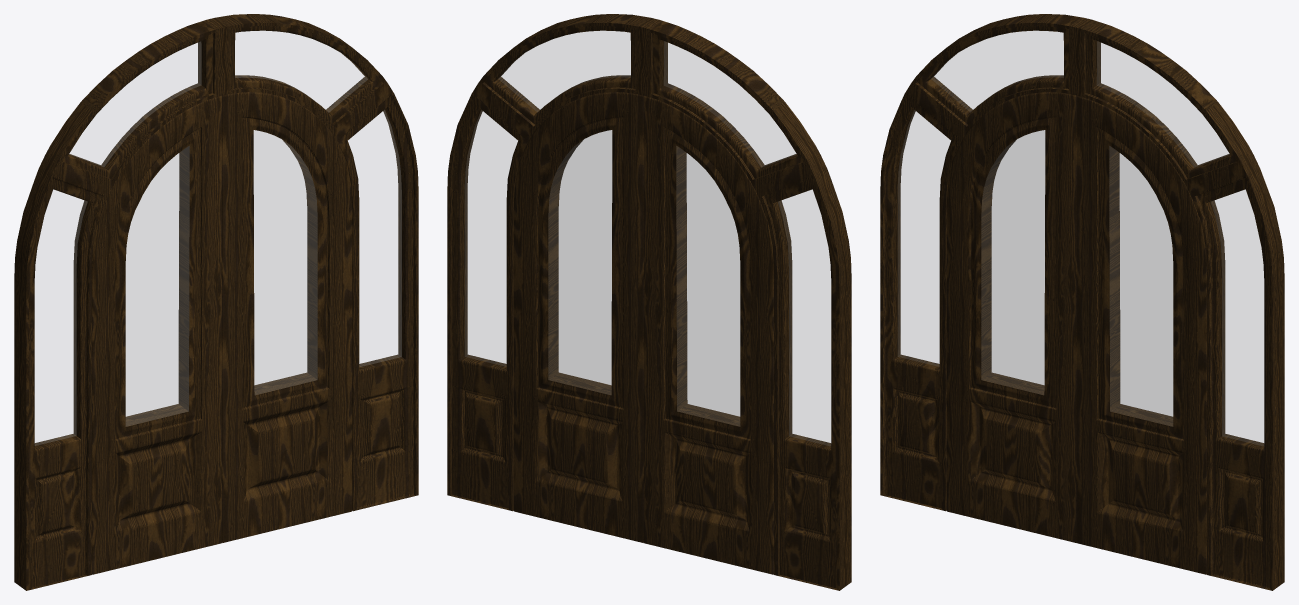
File: castle_style_door.glb
3 views of the same model, side by side, from view 1: azimuth 30°, elevation 25°; view 2: azimuth 150°, elevation 25°; view 3: azimuth 330°, elevation 25° (orthographic).
Visible parts, largest first — view 1: Frame, Frame.002, Frame.001; view 2: Frame, Frame.002, Frame.001; view 3: Frame, Frame.001, Frame.002.
Boxes of the visible parts, bbox=[...] form: Frame: bbox=[14, 14, 418, 590]; Frame.002: bbox=[92, 96, 222, 574]; Frame.001: bbox=[222, 92, 352, 542]; Frame: bbox=[447, 14, 851, 590]; Frame.002: bbox=[643, 96, 773, 574]; Frame.001: bbox=[513, 92, 643, 542]; Frame: bbox=[880, 14, 1284, 590]; Frame.001: bbox=[1076, 96, 1206, 574]; Frame.002: bbox=[946, 92, 1076, 542].
Bounding box in the file's own units: 2.12 × 2.67 × 0.1133.
2 materials, 1 textured.
